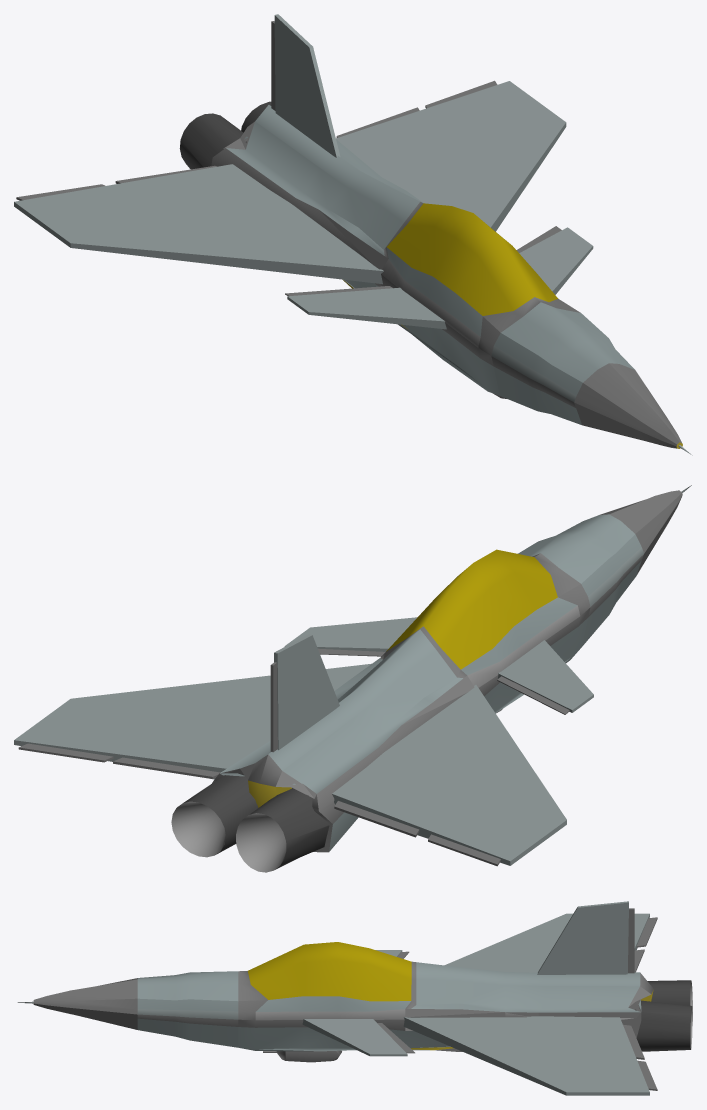
3 renders of one model, top to bottom at view 1: azimuth 30°, elevation 25°; view 2: azimuth 150°, elevation 25°; view 3: azimuth 270°, elevation 25°, orthographic. The views are drawn at different scales.
Visible parts, largest first — view 1: pCube1, pasted__pasted__pasted__pCube2, pasted__pasted__pCube2, pCube3, pCube2, pasted__pCube2, EngineR; view 2: pCube1, pasted__pasted__pasted__pCube2, pasted__pasted__pCube2, EngineR, pCube3, EngineL, pCube2, pasted__pCube2, pasted__pasted__pasted__pCube6, pasted__pasted__pCube6, pasted__pasted__pasted__pasted__pCube6, pCube7 (+1 smaller); view 3: pCube1, pasted__pasted__pCube2, pCube3, pasted__pasted__pasted__pCube2, EngineL, pasted__pCube2, EngineR, pCylinder3, pCube7.
Boxes of the visible parts, x1,y1,x2,y2 form: pCube1: [211, 105, 682, 448]; pasted__pasted__pasted__pCube2: [14, 164, 383, 284]; pasted__pasted__pCube2: [336, 81, 566, 231]; pCube3: [274, 14, 340, 157]; pCube2: [287, 287, 446, 329]; pasted__pCube2: [519, 227, 593, 294]; EngineR: [179, 113, 246, 169]; pCube1: [212, 490, 682, 852]; pasted__pasted__pasted__pCube2: [332, 685, 566, 865]; pasted__pasted__pCube2: [14, 663, 371, 779]; EngineR: [236, 788, 329, 872]; pCube3: [274, 634, 339, 750]; EngineL: [171, 775, 258, 857]; pCube2: [498, 640, 593, 712]; pasted__pCube2: [284, 617, 416, 651]; pasted__pasted__pasted__pCube6: [113, 757, 220, 778]; pasted__pasted__pCube6: [334, 801, 419, 837]; pasted__pasted__pasted__pasted__pCube6: [18, 743, 113, 762]; pCube7: [270, 662, 277, 752]; pCube1: [33, 942, 653, 1051]; pasted__pasted__pCube2: [403, 1016, 649, 1095]; pCube3: [537, 901, 628, 974]; pasted__pasted__pasted__pCube2: [444, 913, 649, 972]; EngineL: [635, 1000, 692, 1051]; pasted__pCube2: [302, 1019, 407, 1056]; EngineR: [647, 980, 692, 1021]; pCylinder3: [263, 1050, 341, 1062]; pCube7: [628, 908, 634, 973].
Bounding box in the file's own units: 5.97 × 2.47 × 9.6.
